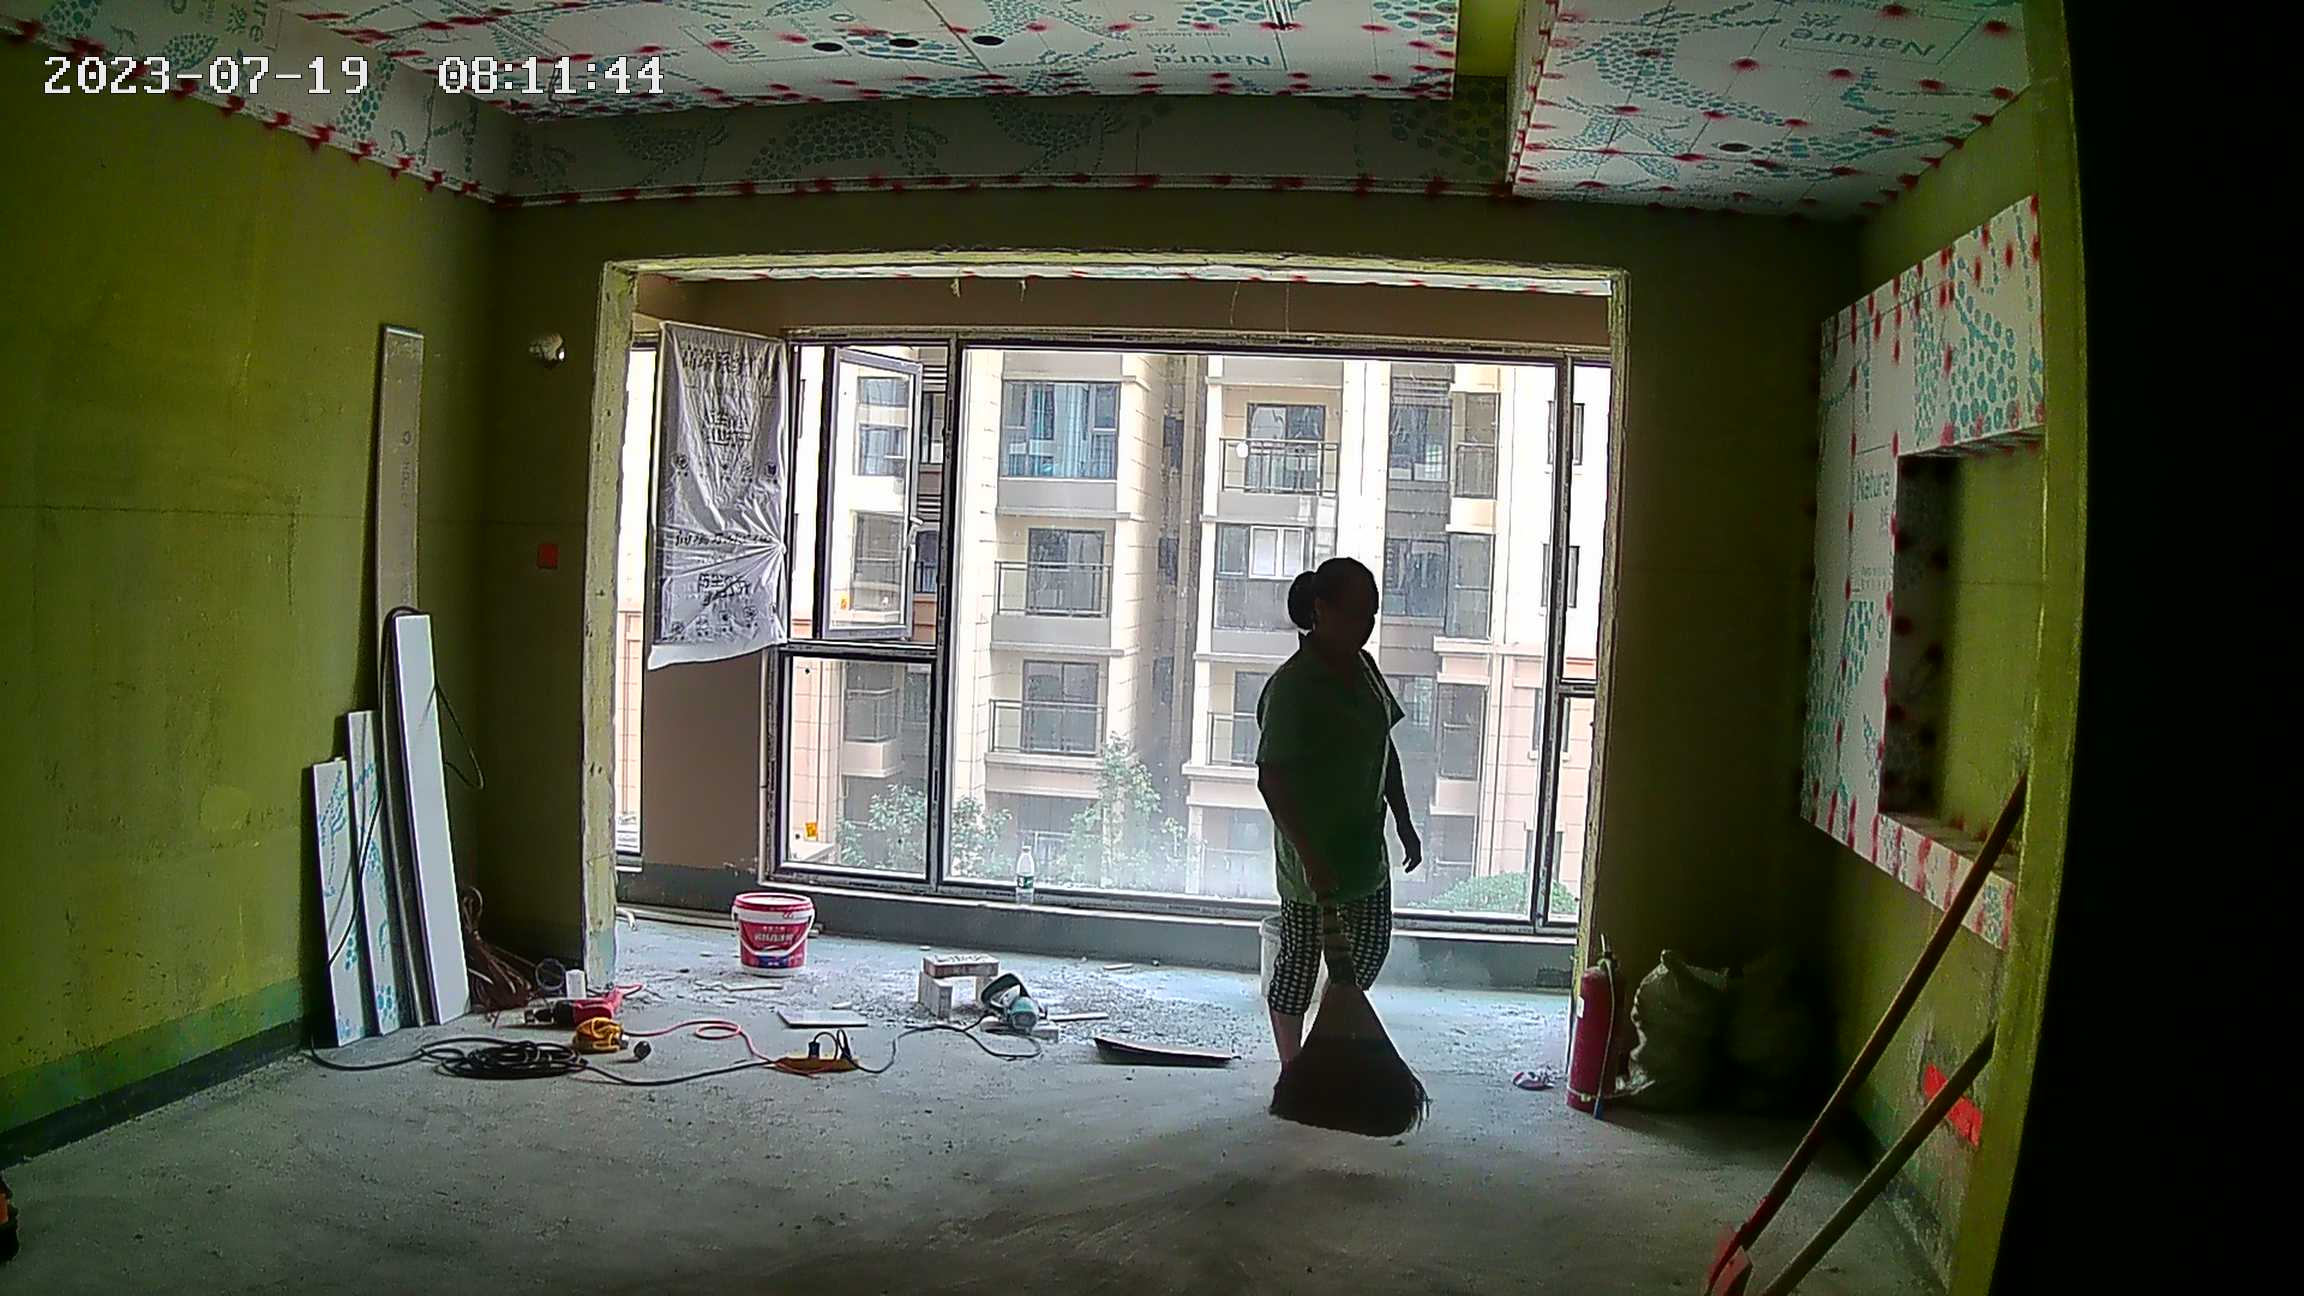people: (1251, 556, 1432, 1113)
window: (781, 346, 1599, 935)
